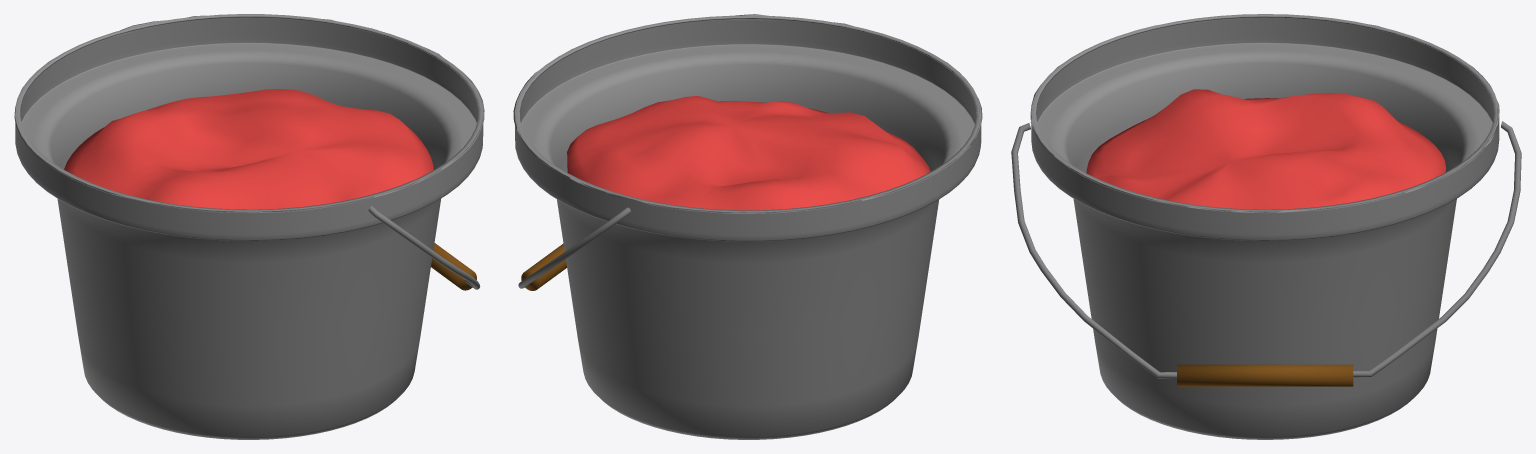
Rendered from Paint Box.fbx.
3 renders of one model, left to right at view 1: azimuth 30°, elevation 25°; view 2: azimuth 150°, elevation 25°; view 3: azimuth 270°, elevation 25°, orthographic.
Visible parts, largest first — view 1: Paintbox1; view 2: Paintbox1; view 3: Paintbox1.
Part boxes in pixels (x1,y1,x2,y2): Paintbox1: [14, 14, 484, 439]; Paintbox1: [513, 14, 982, 439]; Paintbox1: [1011, 14, 1521, 439].
Size of the model in its own units: 51.53 by 31.46 by 55.91.
